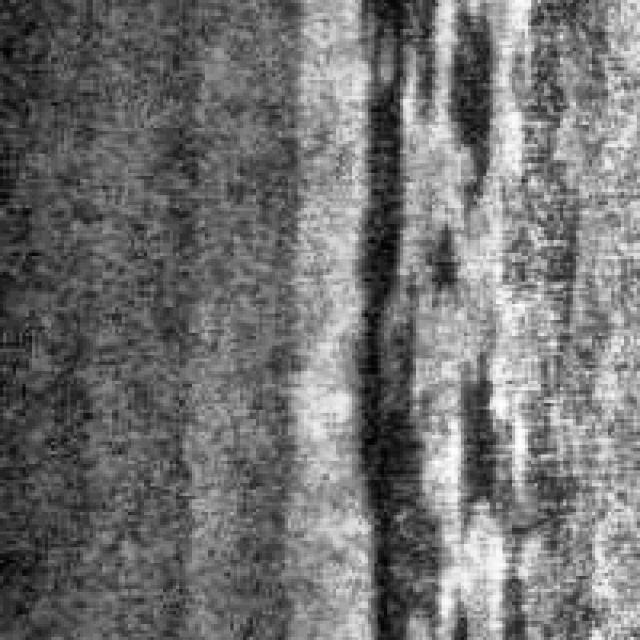Patches: (349, 0, 525, 630)
